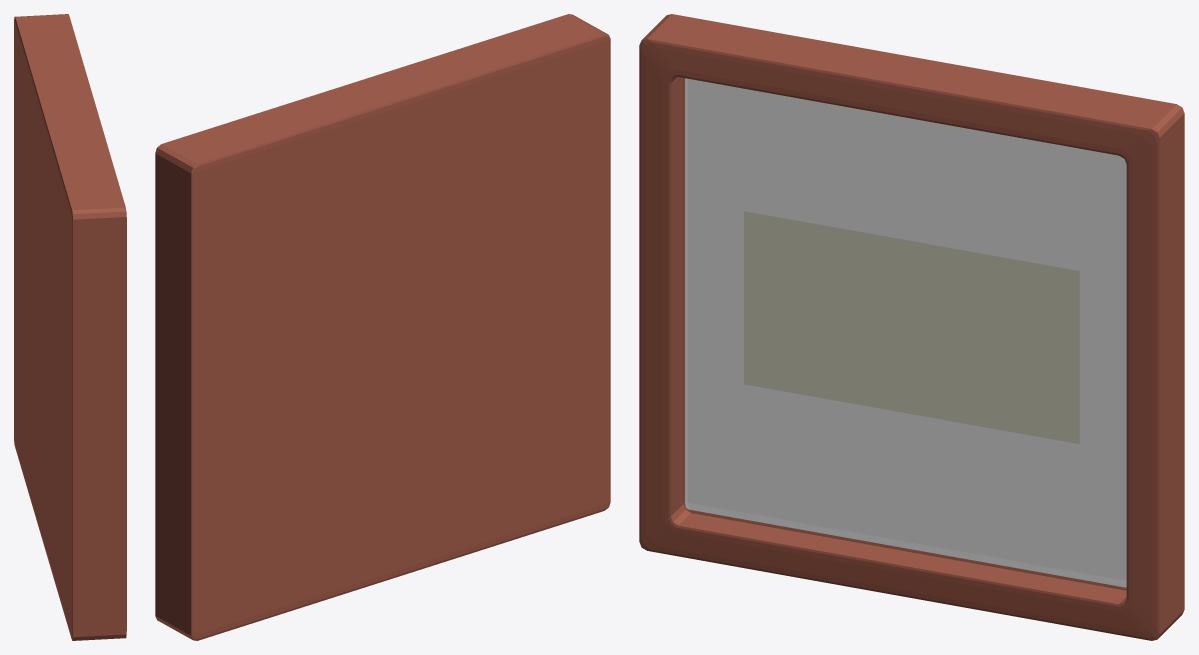
File: tablo4.fbx
3 renders of one model, left to right at view 1: azimuth 30°, elevation 25°; view 2: azimuth 150°, elevation 25°; view 3: azimuth 270°, elevation 25°, orthographic. The views are drawn at different scales.
Parts seen in each view (by area): view 1: Cube.042; view 2: Cube.042; view 3: Cube.042.
Part boxes in pixels (x1,y1,x2,y2): Cube.042: [14, 14, 126, 640]; Cube.042: [155, 14, 610, 640]; Cube.042: [639, 14, 1184, 640].
Bounding box in the file's own units: 347 × 702 × 678.
